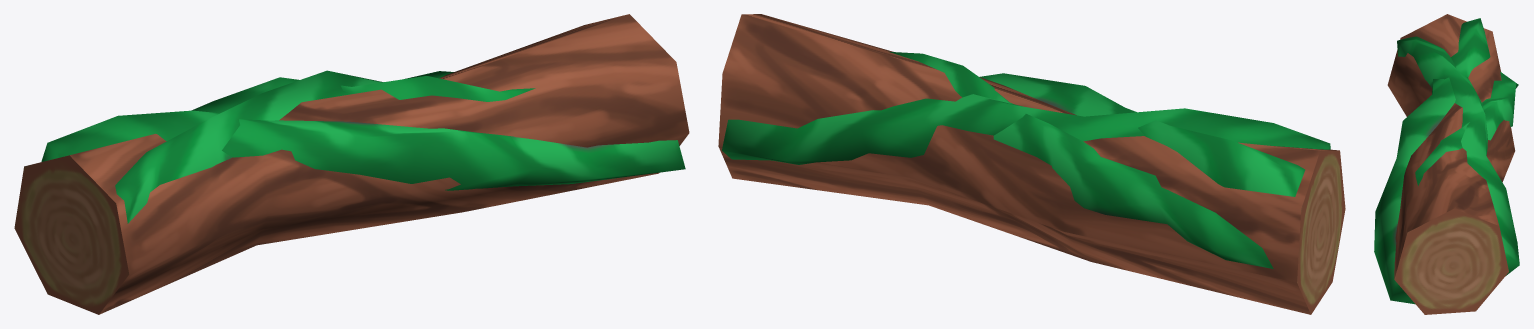
The model's file is jungleLog -0.fbx.
The picture shows the model from 3 angles, left to right: view 1: azimuth 30°, elevation 25°; view 2: azimuth 150°, elevation 25°; view 3: azimuth 270°, elevation 25°; orthographic projection. The views are drawn at different scales.
Parts seen in each view (by area): view 1: jungleLog -0; view 2: jungleLog -0; view 3: jungleLog -0.
Boxes of the visible parts, <box> form: jungleLog -0: <box>14,14,689,314</box>; jungleLog -0: <box>718,14,1345,314</box>; jungleLog -0: <box>1374,14,1519,314</box>.
Size of the model in its own units: 173 by 51.68 by 43.42.
Materials: 1 (1 with a texture image).
